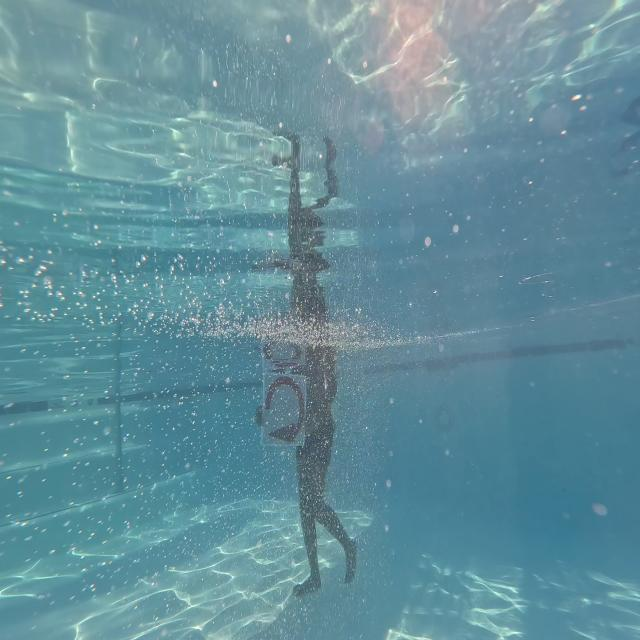red_side: (262, 364, 312, 454)
